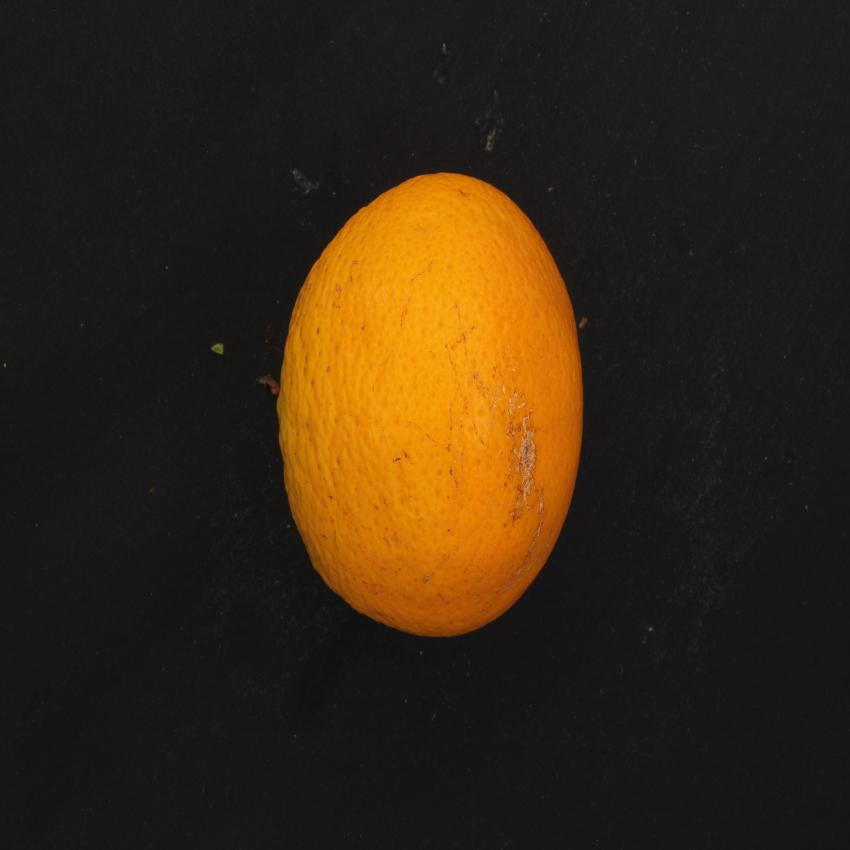Buen estado: (266, 162, 592, 648)
